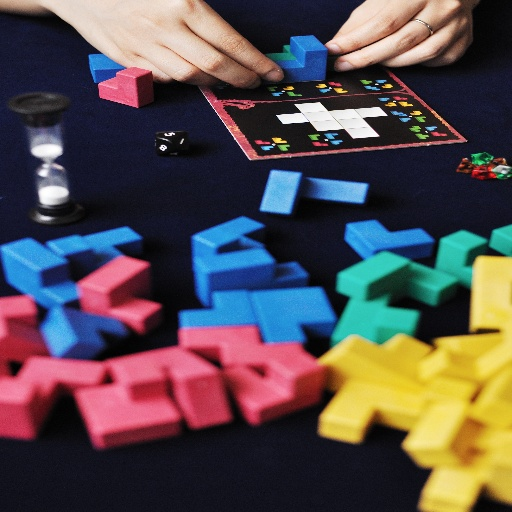hand: (42, 0, 285, 90), (324, 0, 490, 78)
